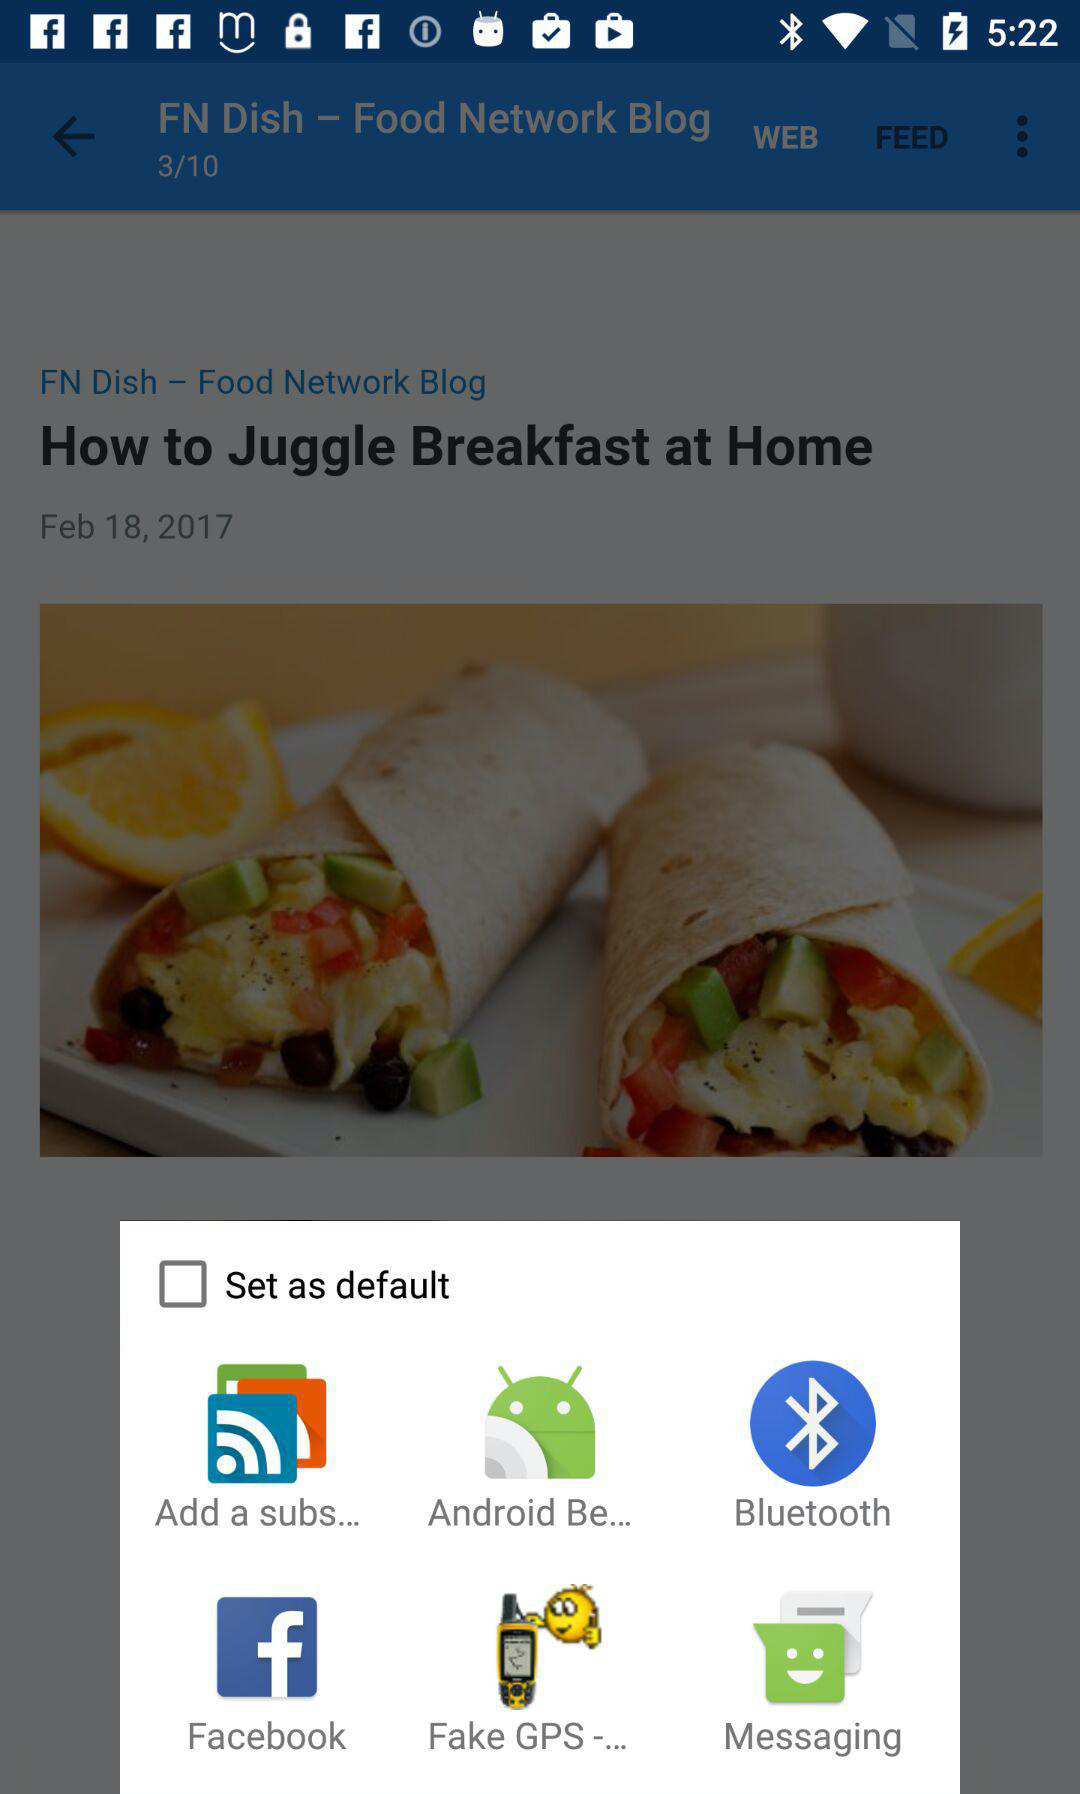CheckedTextView: (159, 1260, 450, 1308)
Icon: (749, 1360, 878, 1486), (217, 1597, 318, 1697), (53, 115, 97, 160), (1017, 114, 1029, 159)
Image: (40, 604, 1045, 1158), (208, 1362, 328, 1483), (752, 1592, 878, 1703), (498, 1583, 601, 1709), (486, 1365, 596, 1479)
Modal: (120, 1220, 961, 1794)
Text: (44, 423, 872, 477), (160, 103, 710, 145), (42, 369, 487, 402), (225, 1269, 450, 1299), (725, 1722, 901, 1758), (428, 1497, 632, 1527), (155, 1498, 360, 1527), (428, 1721, 632, 1750), (42, 514, 234, 545), (190, 1721, 348, 1750), (735, 1498, 890, 1527), (875, 126, 947, 152), (753, 126, 817, 152), (158, 154, 218, 181)
UpperTaskBar: (1, 1, 1080, 64)
